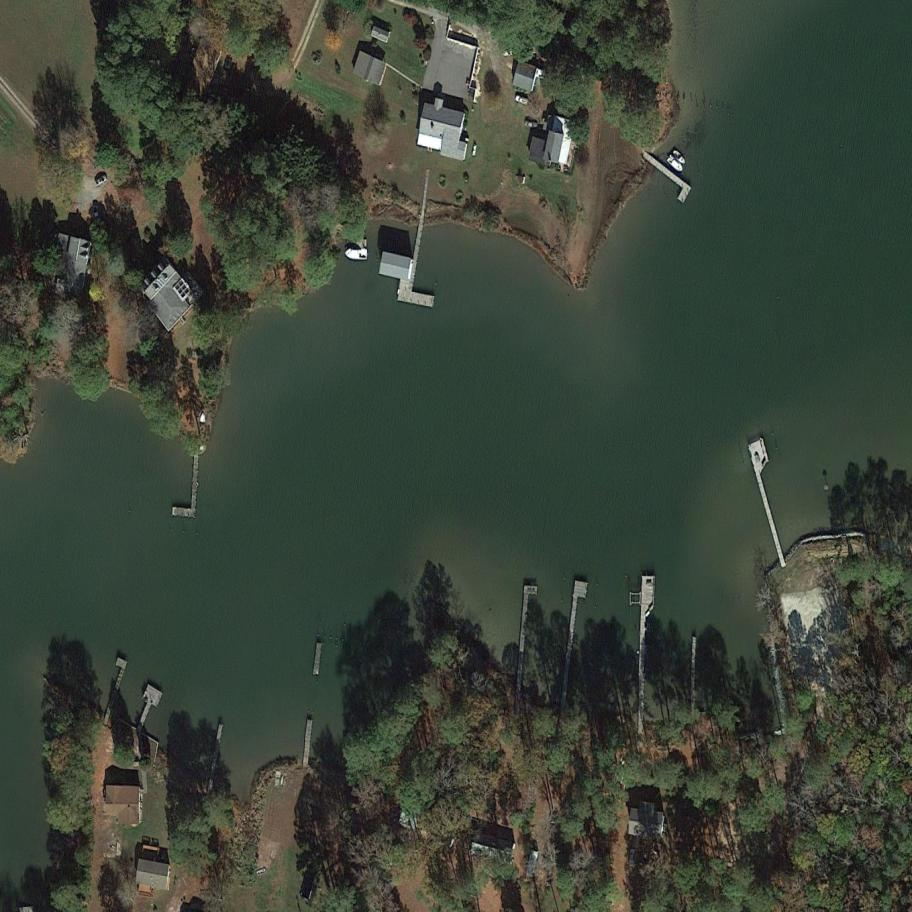ship: (663, 153, 686, 175), (343, 246, 368, 260), (670, 147, 688, 166)
small-vehicle: (92, 172, 110, 188), (513, 93, 531, 107), (522, 118, 540, 130)
